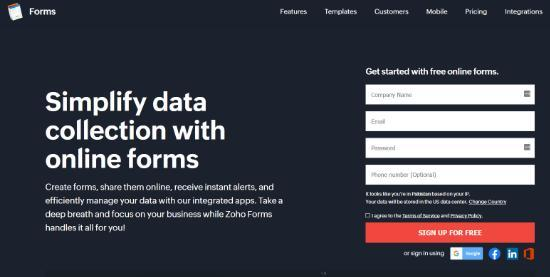button: (367, 224, 537, 245)
checkbox: (365, 213, 373, 220)
input: (366, 165, 537, 187), (366, 111, 536, 132), (367, 139, 536, 160), (366, 85, 536, 105)
label: (373, 213, 486, 220)
